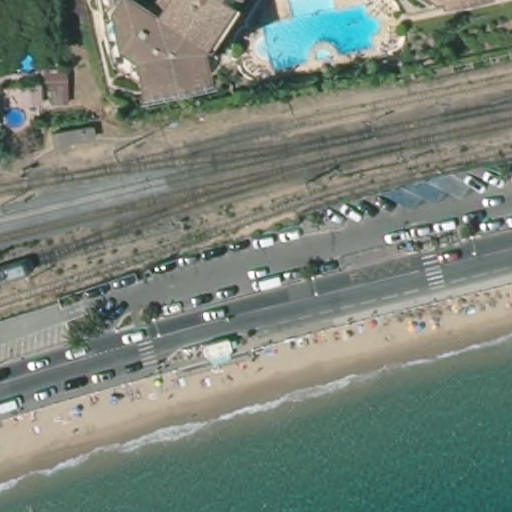pool: (261, 1, 383, 80), (17, 51, 63, 76), (1, 109, 33, 133)
